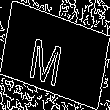M_N: (36, 24, 74, 86)
